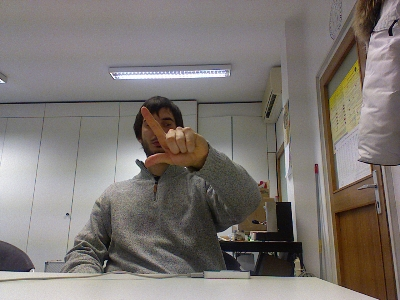枪: (138, 106, 208, 169)
